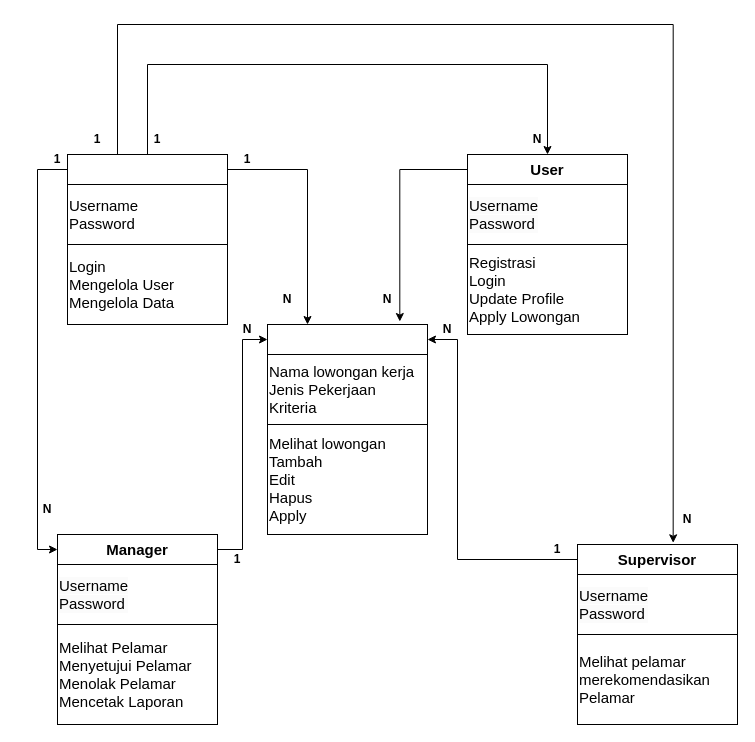
Image size: 755x742. Some labels were removed from this diagram. The centre of each missing label's shape, as x and y in pixels:
Admin: (x=147, y=169)
Lowongan Kerja: (x=347, y=339)
